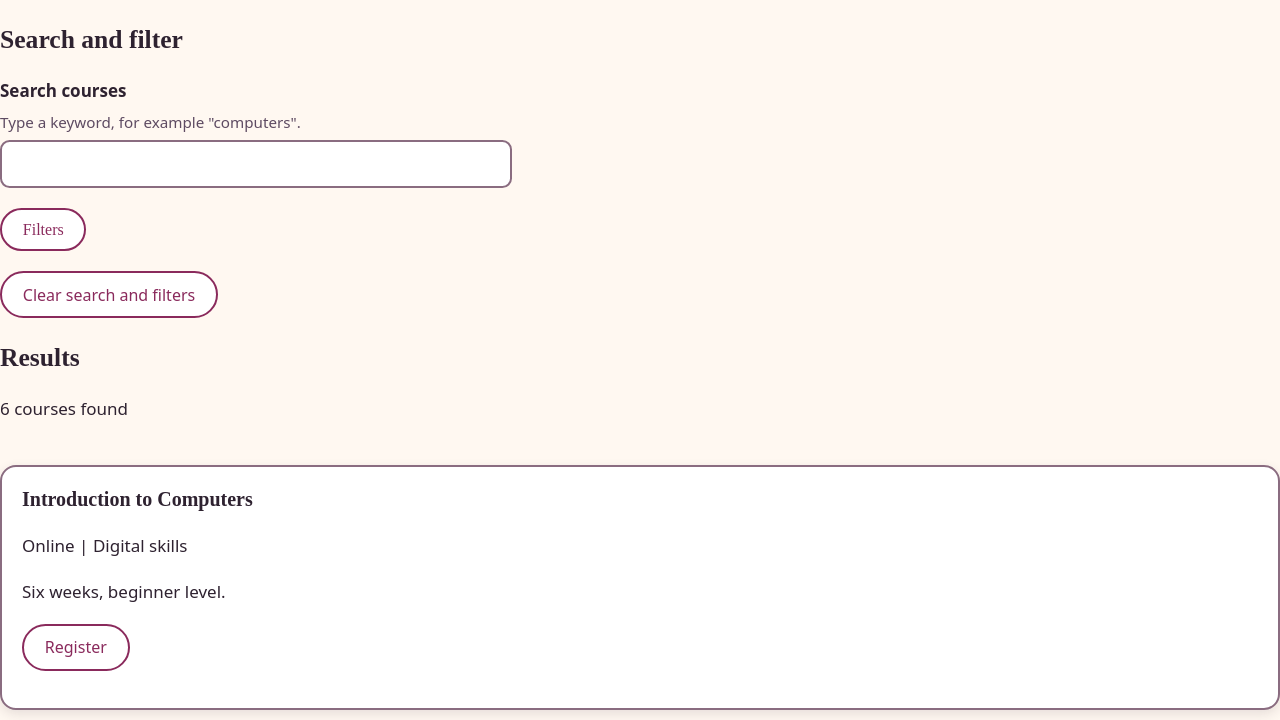
Test: CourseDirectory › toggles aria-expanded on the Filters button
Click the button "Filters": [43, 230] box [0, 208, 86, 251]
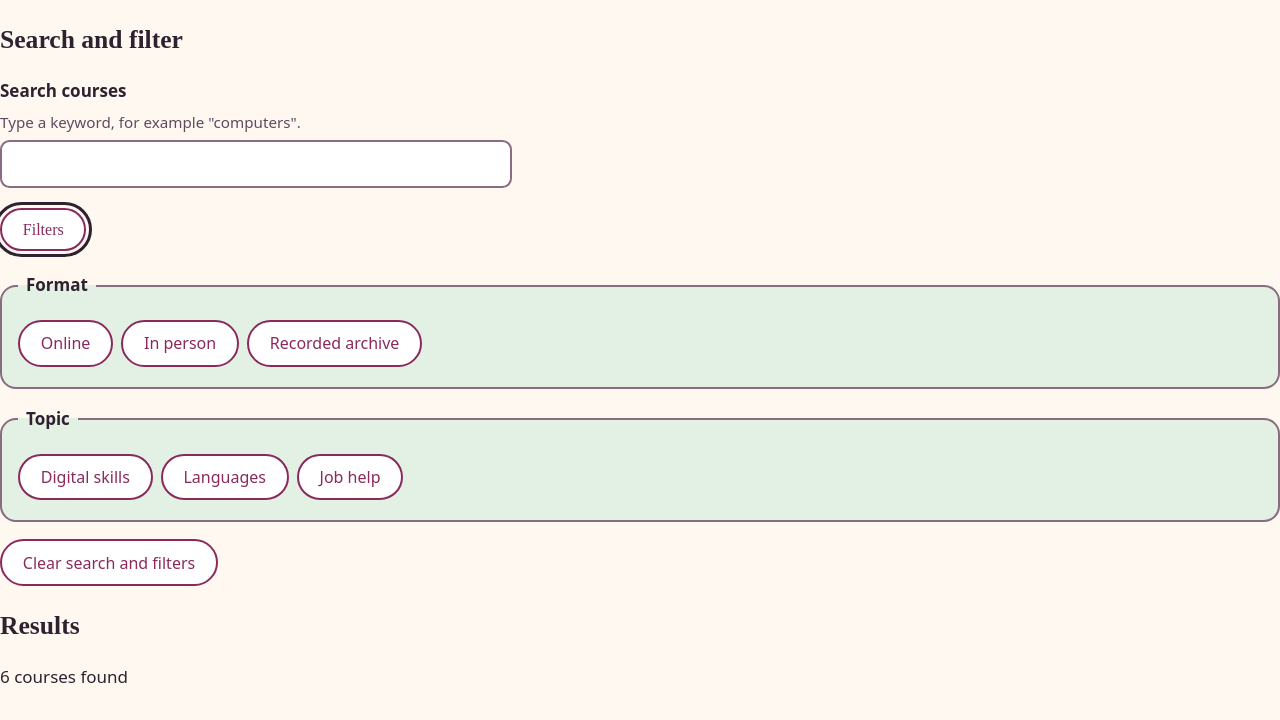
Result: the button "Filters" is expanded at [0, 208, 86, 251]
